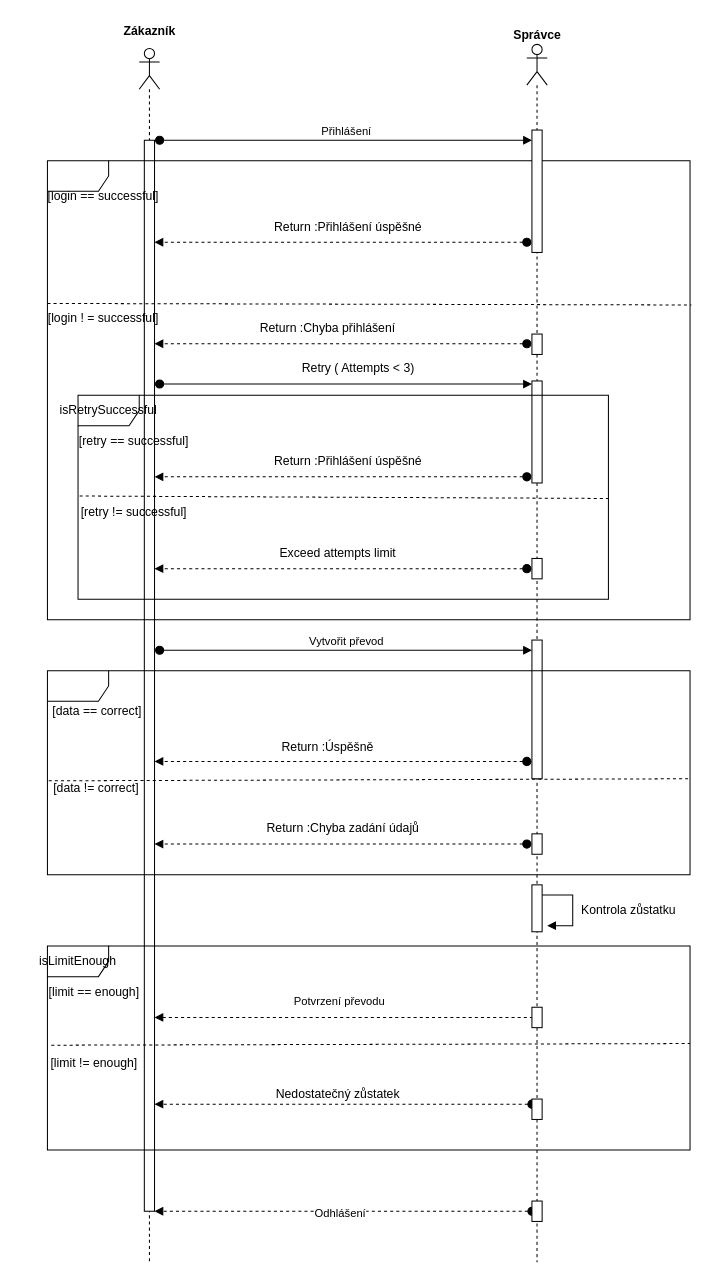
This 722x1280 diagram has some shape labels left out. The shapes that lost their labels are listed below. From the top down, each one's box as (x1, y1, x2, y2) in pixels, then its label:
(46, 160, 690, 620): isLoginSuccessful
(46, 670, 690, 875): areDataCorrect
